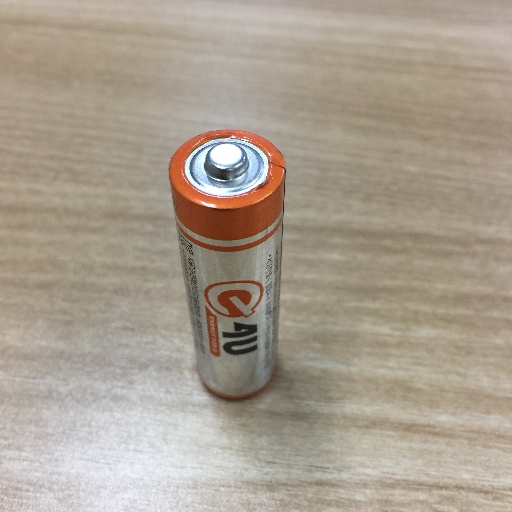Battery_0: (158, 111, 304, 419)
